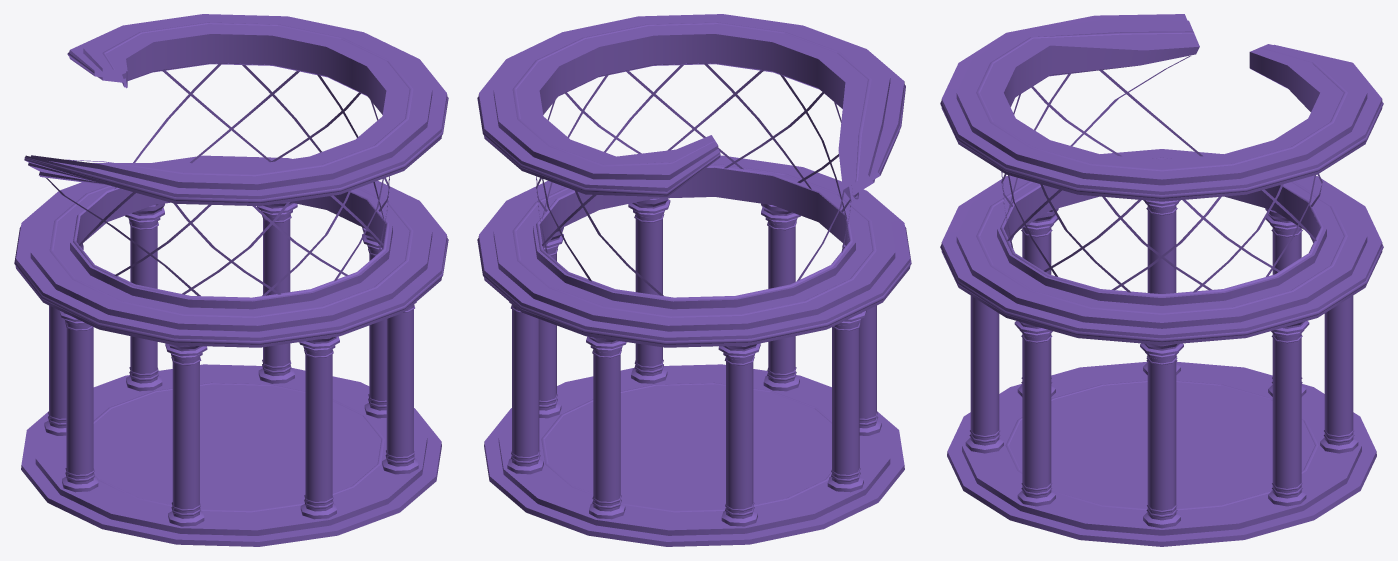
Rendered from Tower_Base_02_Art.fbx.
3 renders of one model, left to right at view 1: azimuth 30°, elevation 25°; view 2: azimuth 150°, elevation 25°; view 3: azimuth 270°, elevation 25°, orthographic.
Parts seen in each view (by area): view 1: Tower_Base_02_Art; view 2: Tower_Base_02_Art; view 3: Tower_Base_02_Art.
Part boxes in pixels (x1,y1,x2,y2): Tower_Base_02_Art: (14, 14, 448, 546); Tower_Base_02_Art: (477, 14, 911, 546); Tower_Base_02_Art: (940, 14, 1383, 546).
Bounding box in the file's own units: 1603 × 1467 × 1574.
